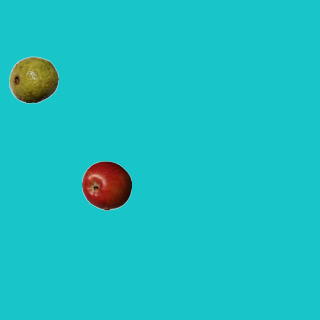Apple Braeburn: (81, 160, 131, 210)
Guava: (8, 54, 58, 104)
